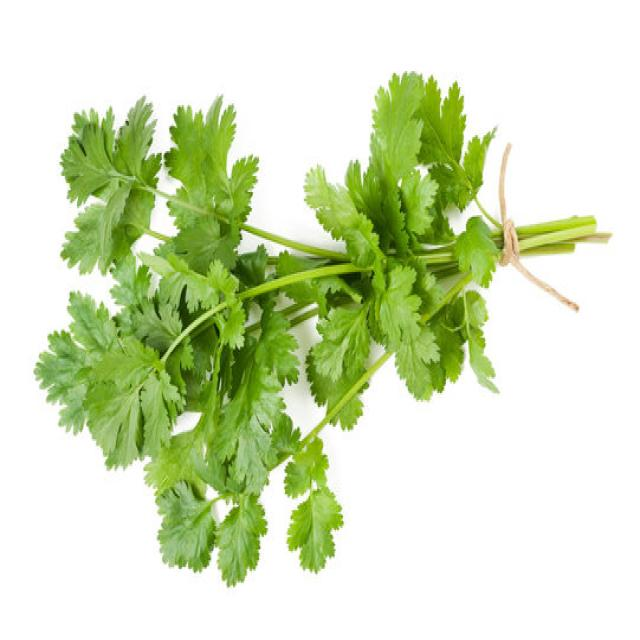Coriander Leaves: (39, 55, 617, 573)
